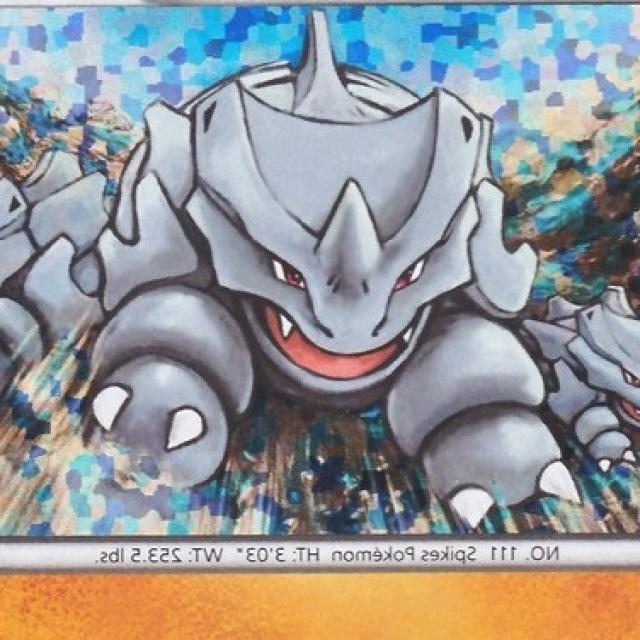Rhyhorn: (104, 80, 532, 512)
